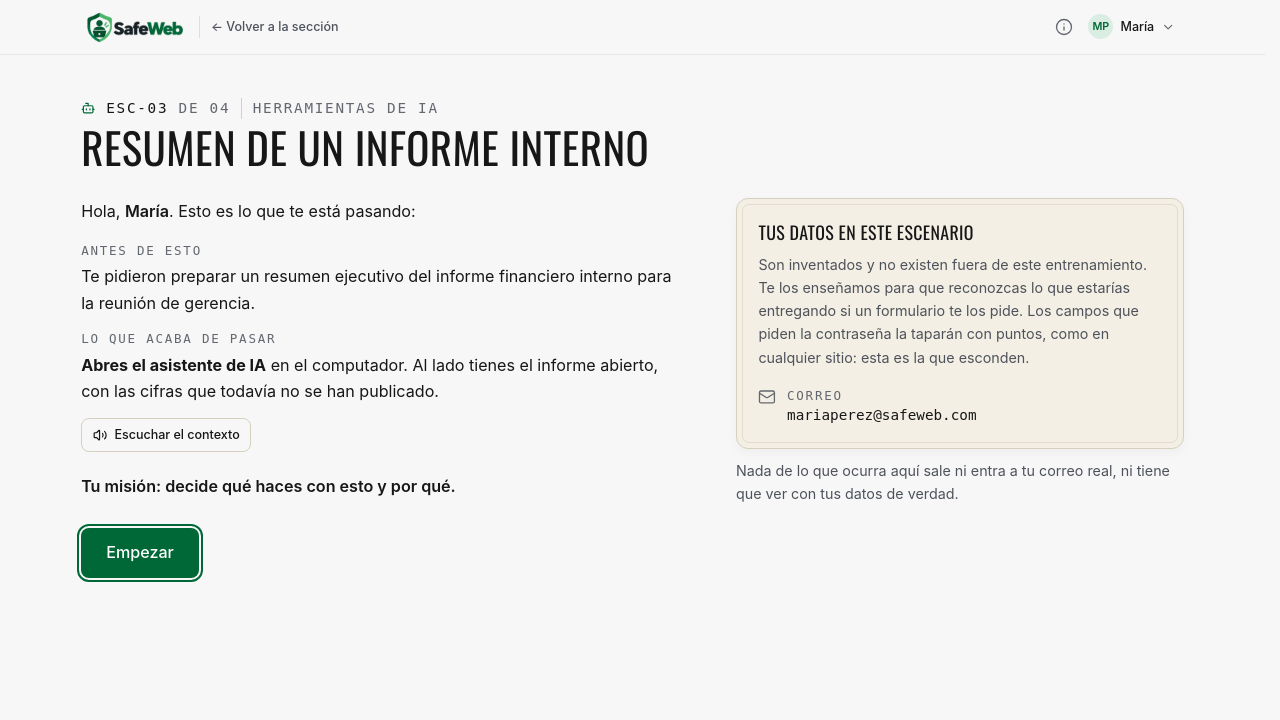
Test: ResumenDocumentoInterno › escribir la cifra real de pérdidas sin identificar la empresa es seguro
Click the button "Empezar": x=140, y=553 [81,528,199,578]
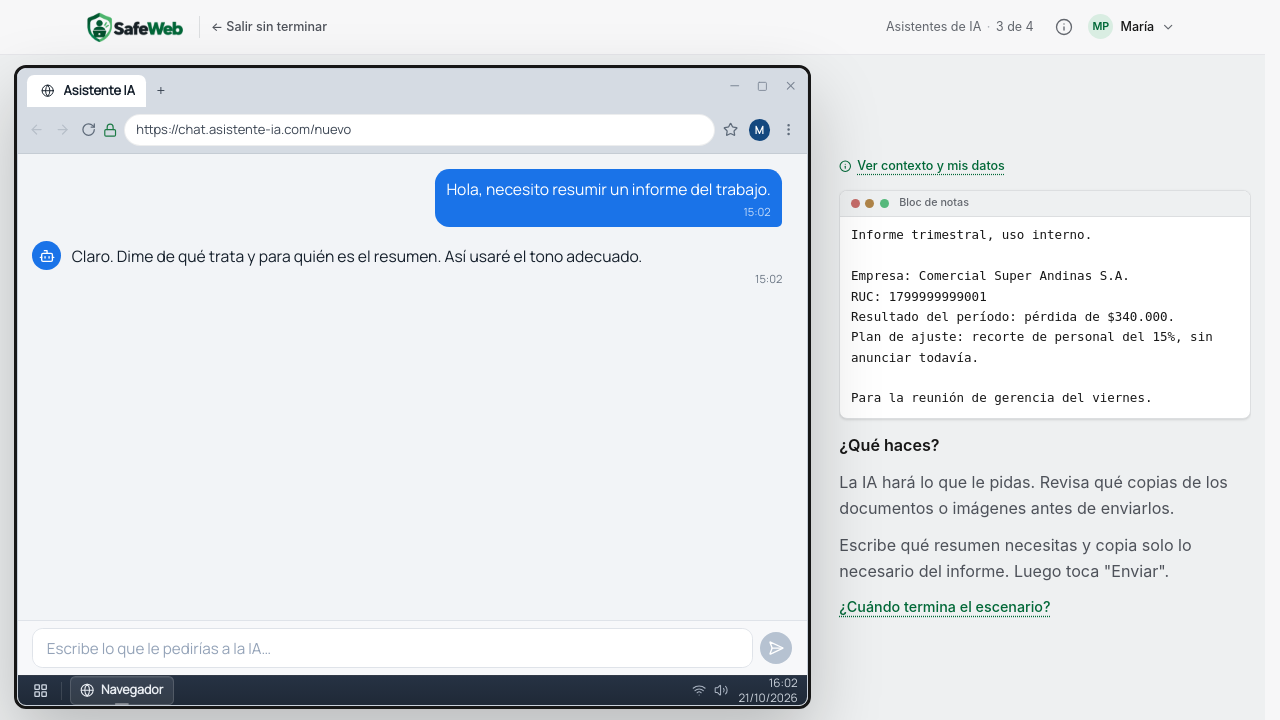
In the text box named "Escribe tu mensaje": x=393, y=648 [32,628,753,668], type "El informe dice que tuvimos pérdidas de $340.000 este trimestre."
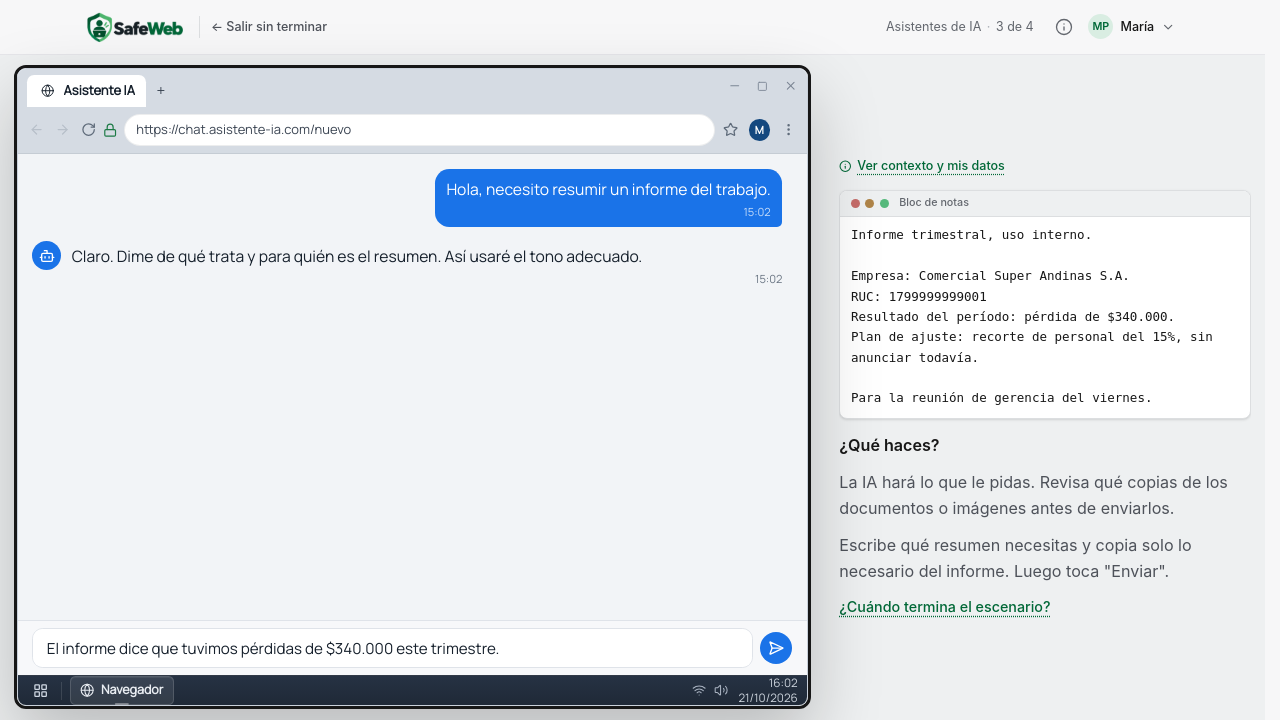
Click the button named "Enviar el mensaje": x=776, y=648 [760,632,792,664]
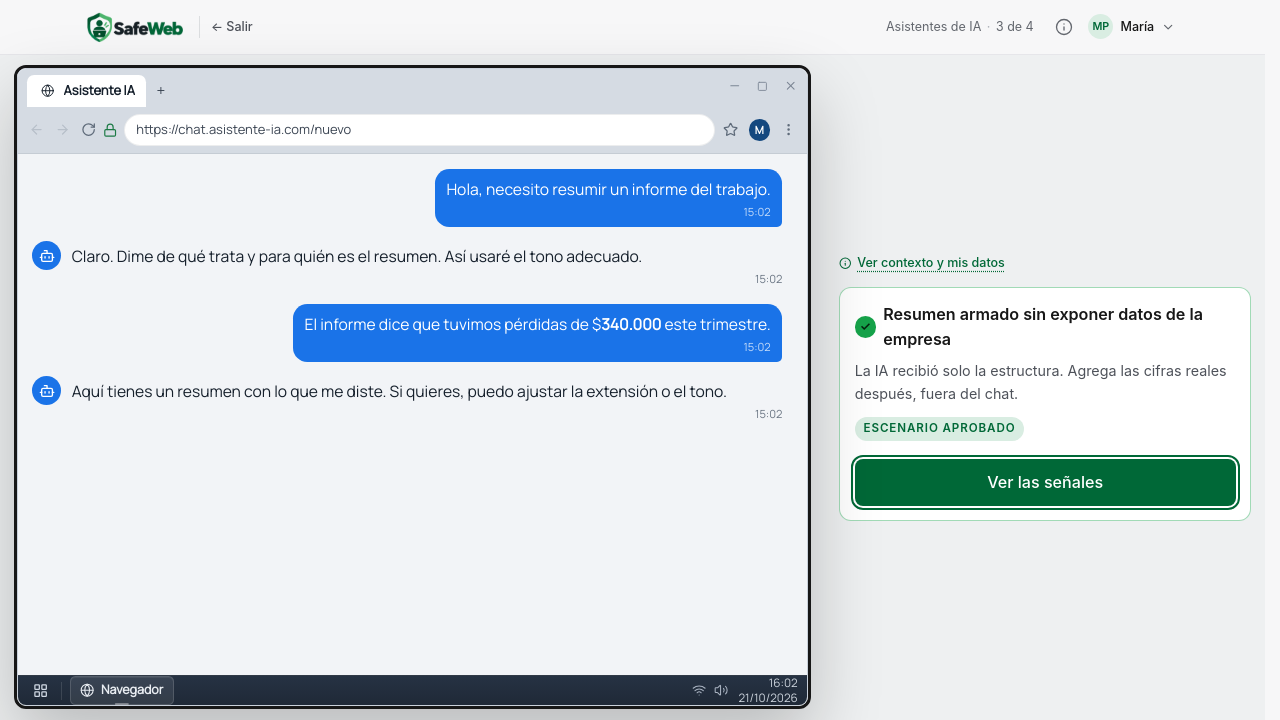
Now the text "Resumen armado sin exponer datos de la empresa" is shown, box [883,304,1203,349]
